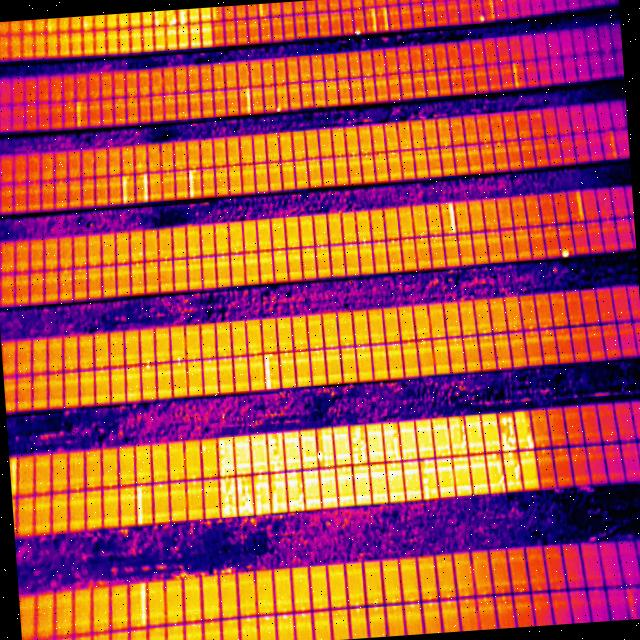Hotspot: (318, 468, 339, 509), (236, 475, 256, 517), (233, 436, 253, 477), (252, 473, 272, 514), (353, 466, 373, 507), (302, 470, 322, 510), (218, 476, 238, 516), (270, 472, 290, 512), (286, 472, 306, 512), (387, 464, 406, 504), (136, 580, 151, 630), (338, 467, 356, 508), (250, 433, 268, 471), (218, 439, 235, 477), (371, 464, 388, 502), (268, 432, 284, 472), (322, 427, 334, 467), (134, 484, 145, 524), (574, 190, 584, 222), (500, 432, 516, 452), (608, 130, 618, 159), (421, 475, 432, 500), (380, 6, 389, 32), (368, 7, 377, 33), (448, 203, 456, 232), (488, 478, 506, 490), (187, 168, 194, 198), (264, 355, 270, 389), (452, 484, 472, 494), (351, 426, 362, 444), (405, 488, 423, 499), (352, 451, 367, 464), (512, 61, 520, 85), (435, 443, 450, 455), (369, 450, 384, 462), (402, 448, 417, 460), (400, 425, 414, 437), (484, 439, 499, 450), (335, 452, 350, 463), (75, 102, 82, 125), (300, 433, 316, 443), (404, 467, 420, 477), (472, 481, 488, 491), (438, 484, 454, 494), (142, 174, 148, 200), (450, 421, 464, 432), (10, 459, 18, 478), (384, 426, 396, 438), (392, 439, 398, 460), (488, 0, 494, 20), (354, 443, 366, 453), (451, 442, 466, 450), (512, 464, 520, 479), (204, 384, 218, 392), (334, 432, 348, 440), (284, 438, 298, 446), (526, 433, 534, 447), (386, 446, 394, 460), (286, 456, 300, 464), (435, 458, 451, 465), (454, 464, 468, 472), (470, 463, 484, 471), (179, 10, 187, 24), (433, 424, 448, 431), (418, 445, 433, 452), (417, 425, 430, 433), (246, 87, 250, 112), (368, 432, 382, 439), (438, 465, 452, 472), (522, 457, 534, 465), (245, 258, 258, 265), (489, 418, 498, 428), (469, 456, 484, 462), (422, 466, 433, 474), (466, 422, 478, 429), (468, 442, 482, 448), (302, 456, 316, 462), (488, 460, 500, 467), (190, 28, 200, 36), (560, 248, 570, 256), (126, 390, 136, 398), (508, 435, 516, 445), (316, 450, 324, 460), (506, 480, 514, 490), (125, 373, 138, 379), (459, 433, 466, 444), (508, 422, 514, 434), (166, 28, 176, 35), (192, 40, 202, 47), (310, 356, 324, 361), (178, 42, 188, 49), (500, 416, 507, 426), (411, 432, 416, 446), (504, 459, 514, 466), (282, 358, 293, 364), (258, 4, 264, 15), (427, 432, 432, 445), (481, 419, 488, 428), (120, 20, 129, 27), (131, 19, 140, 26), (170, 17, 177, 26), (178, 28, 188, 34), (154, 32, 164, 38), (202, 39, 212, 45), (142, 44, 152, 50), (329, 372, 341, 377), (516, 418, 526, 424), (142, 17, 152, 23), (46, 23, 52, 33), (453, 458, 467, 462), (422, 459, 429, 467), (487, 453, 496, 459), (203, 368, 216, 372), (132, 33, 140, 39), (168, 42, 176, 48), (506, 416, 512, 424), (10, 483, 16, 491), (524, 450, 530, 458), (413, 460, 419, 468), (528, 478, 534, 486), (190, 14, 198, 20), (202, 13, 210, 19), (154, 18, 160, 26), (297, 358, 306, 363), (120, 46, 128, 51), (288, 467, 296, 472), (200, 445, 206, 451), (122, 180, 126, 188), (120, 34, 128, 38), (294, 255, 300, 260), (421, 340, 426, 346), (156, 44, 162, 49), (434, 434, 437, 444), (462, 448, 467, 454), (496, 467, 501, 473), (483, 596, 488, 602), (501, 596, 506, 602), (203, 26, 210, 30), (343, 372, 350, 376), (508, 451, 512, 458), (305, 247, 310, 252), (355, 29, 360, 34), (165, 369, 170, 374), (516, 481, 521, 486), (83, 22, 88, 27), (496, 140, 500, 146), (123, 196, 127, 202), (377, 242, 383, 246), (132, 45, 136, 51), (176, 362, 182, 366), (146, 364, 150, 370), (408, 462, 412, 468), (282, 614, 288, 618), (264, 617, 270, 621), (277, 249, 281, 254), (202, 328, 206, 333), (436, 334, 441, 338), (330, 342, 334, 347), (407, 342, 411, 347), (523, 480, 528, 484), (446, 600, 451, 604), (410, 604, 415, 608), (481, 16, 484, 22), (362, 238, 366, 242), (404, 238, 408, 242), (320, 244, 324, 248), (146, 358, 150, 362), (361, 346, 365, 350), (330, 348, 334, 352), (300, 352, 304, 356), (452, 451, 456, 455), (441, 454, 445, 458), (192, 482, 196, 486), (438, 476, 442, 480), (374, 600, 378, 604), (391, 599, 395, 603), (300, 606, 304, 610), (465, 599, 469, 603), (378, 71, 382, 75), (234, 250, 239, 253), (446, 450, 449, 455), (352, 151, 356, 154), (562, 224, 565, 228), (547, 227, 551, 230), (349, 242, 352, 246), (220, 255, 224, 258), (315, 346, 318, 350), (176, 358, 182, 360), (284, 351, 287, 355), (238, 356, 242, 359), (504, 452, 506, 458), (158, 484, 161, 488), (356, 602, 359, 606), (374, 606, 377, 610), (392, 605, 396, 608), (429, 602, 432, 606), (276, 108, 280, 111), (284, 162, 289, 164), (454, 337, 456, 342), (192, 474, 194, 479), (416, 476, 418, 481), (139, 252, 142, 255), (247, 618, 250, 621), (392, 150, 394, 154), (300, 598, 302, 602), (356, 608, 360, 610), (444, 144, 447, 146), (364, 155, 366, 158), (270, 353, 272, 356), (316, 350, 319, 352), (208, 361, 210, 364), (302, 613, 304, 616), (367, 74, 370, 76), (346, 342, 348, 344), (346, 348, 348, 350), (421, 238, 422, 240)
